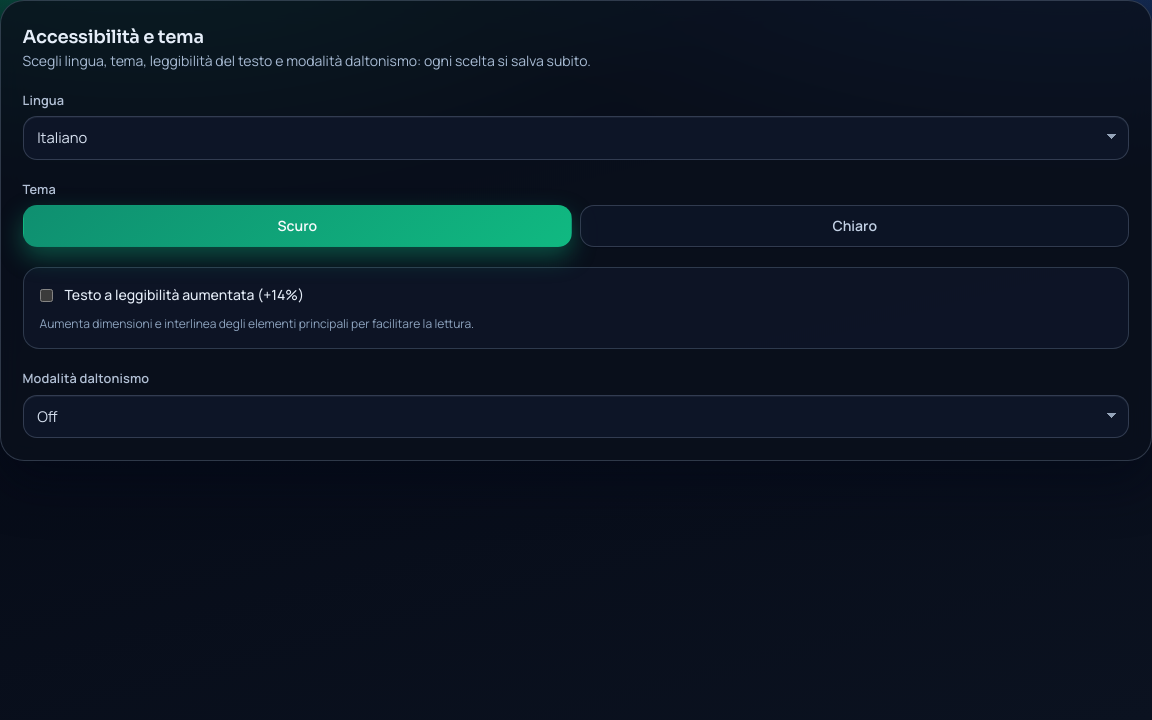
Test: preferenze salvate a ogni scelta › scelto Chiaro invia il solo tema, mostra Salvato e non c'è un pulsante Salva
The width and height of the screenshot is (1152, 720).
Click the button "Chiaro": (855, 226) [580, 205, 1129, 247]
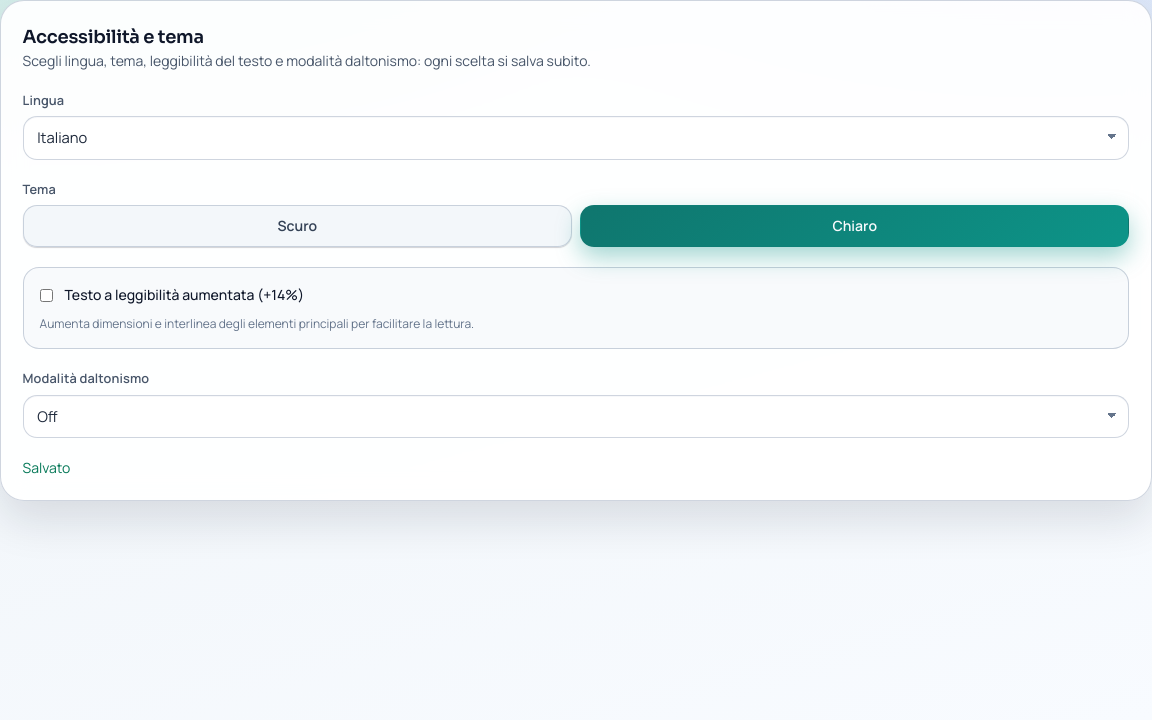
Expected: the message reads "Salvato", [23, 458, 70, 477]
